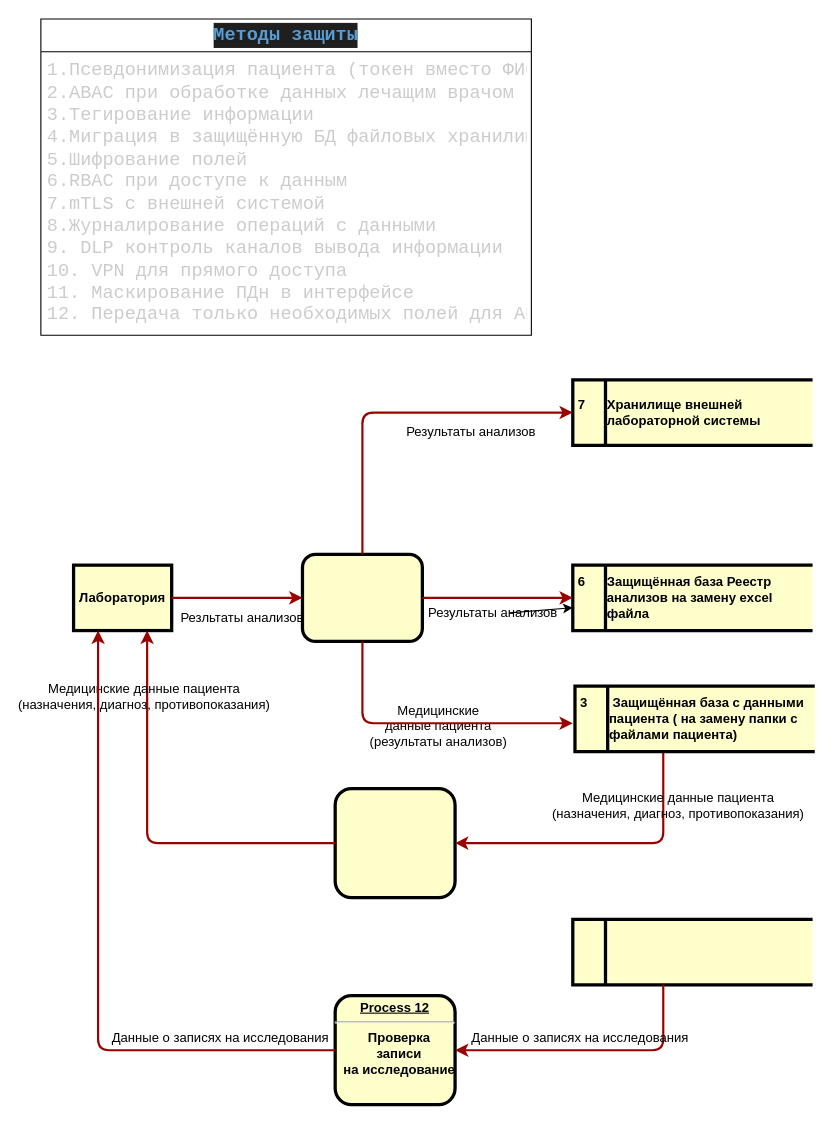
The diagram is 836 pixels wide and 1125 high, and some of its shapes have lost their labels. The shapes that lost their labels are listed below. From the top down, each one's centre as x and y in pixels, then its label:
At pixel 361 597: "Process 10 Проведение лабораторных исследований".
At pixel 394 842: "Process 11 Ознакомление с медицинскими данными пациента".
At pixel 692 951: "4 Защищённая база на замену Excel-файла записи к специалисту (лаборатории)".
